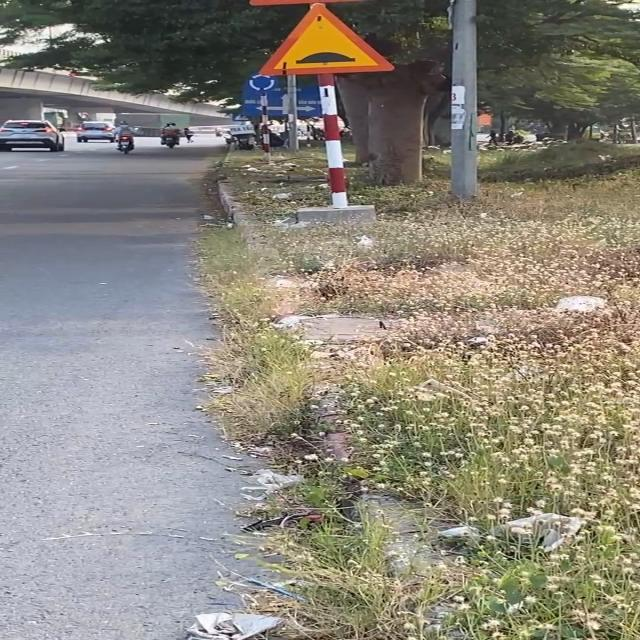221-duong-go-ghe: (256, 5, 399, 76)
303-noi-giao-nhau-chay-theo-vong-xuyen: (246, 74, 278, 90)
